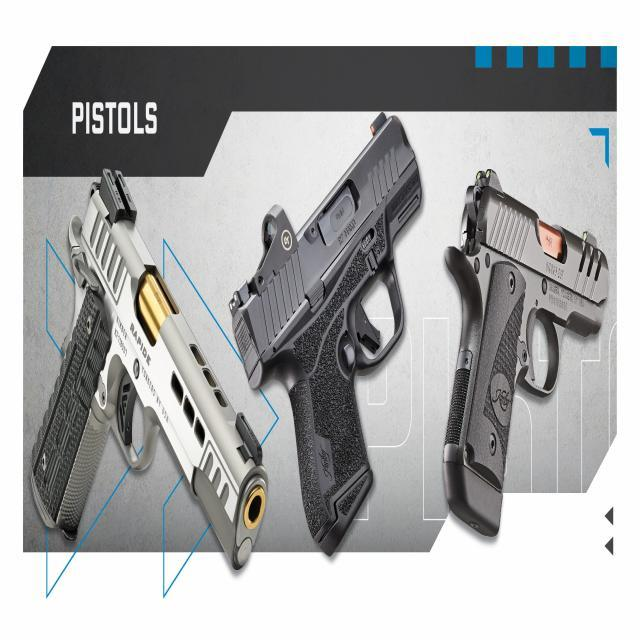pistol: (21, 164, 263, 572), (244, 103, 427, 541), (443, 153, 610, 526)
